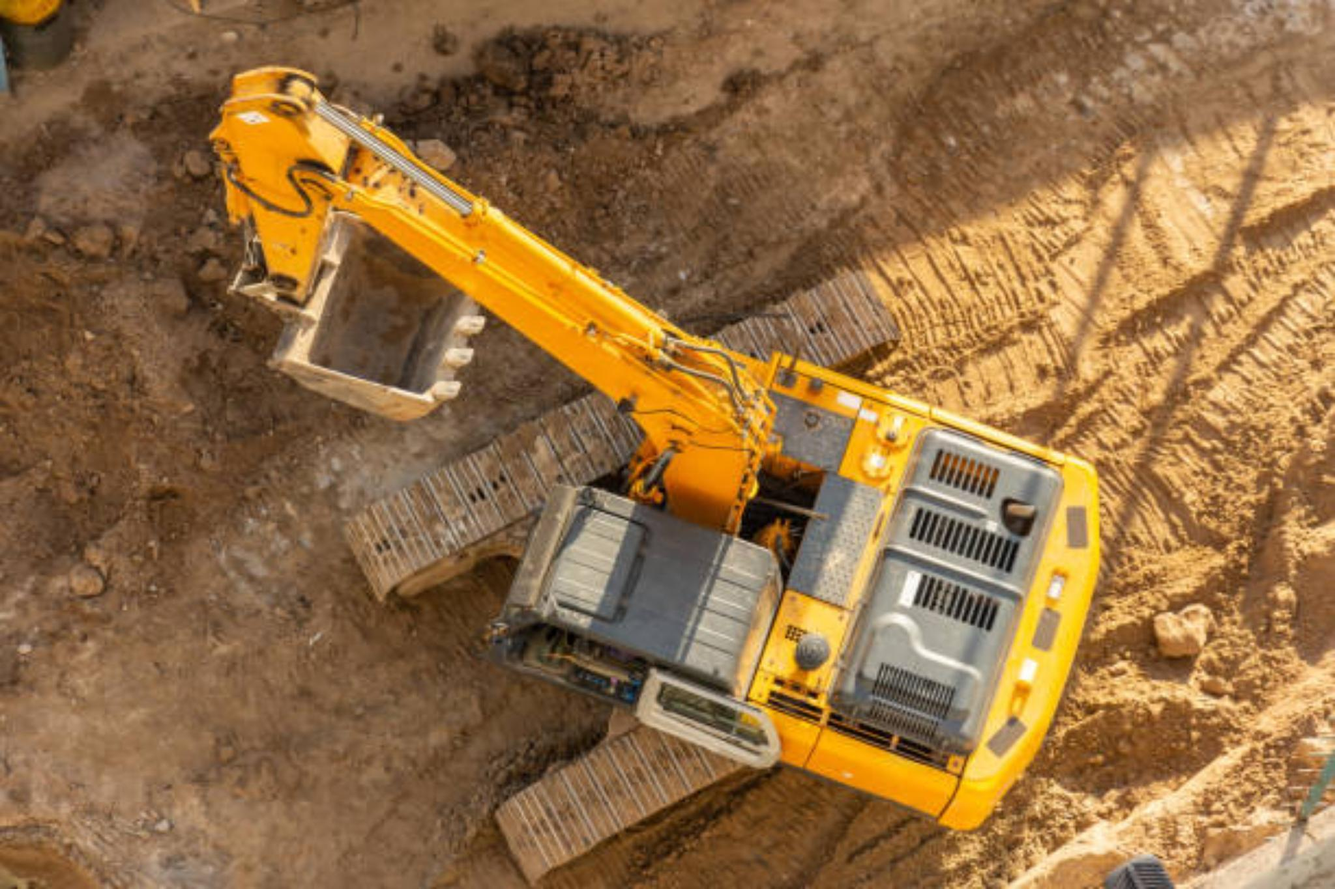excavator: (190, 44, 1134, 850)
